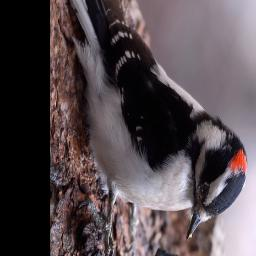Woodpecker: (61, 0, 251, 245)
